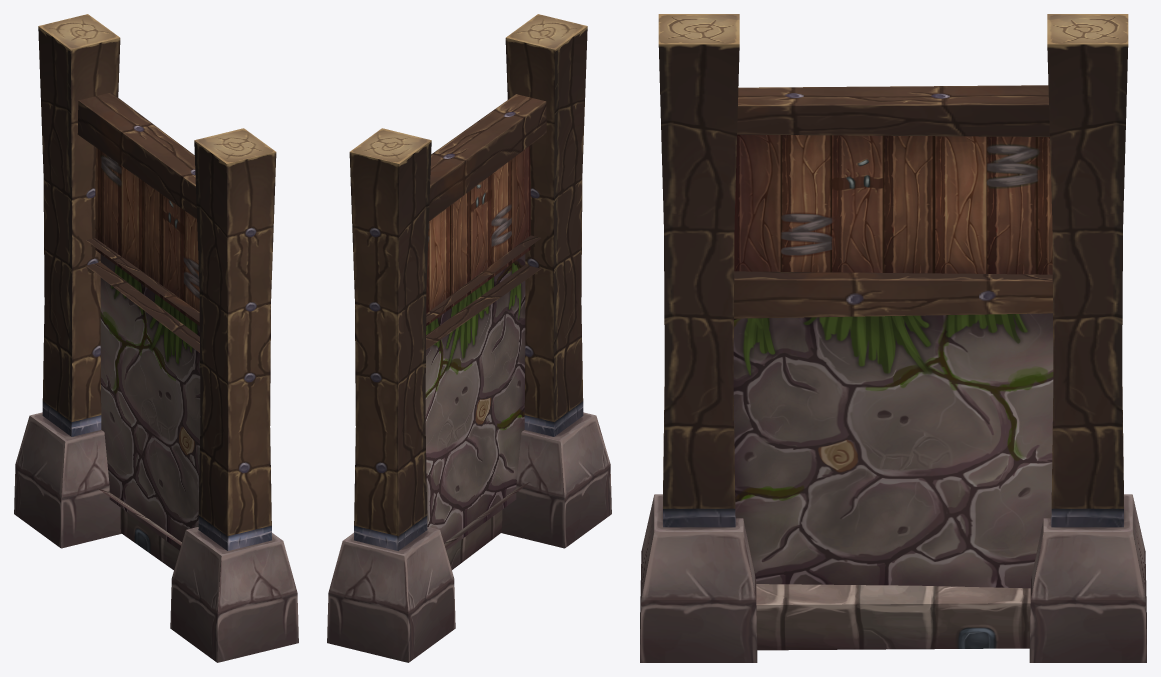
File: big_wall_side.fbx
3 views of the same model, side by side, from view 1: azimuth 30°, elevation 25°; view 2: azimuth 150°, elevation 25°; view 3: azimuth 270°, elevation 25° (orthographic). The views are drawn at different scales.
Parts seen in each view (by area): view 1: big_wall_side; view 2: big_wall_side; view 3: big_wall_side.
Part boxes in pixels (x1,y1,x2,y2): big_wall_side: [14, 14, 298, 662]; big_wall_side: [327, 14, 611, 662]; big_wall_side: [640, 14, 1146, 662].
Bounding box in the file's own units: 1.83 × 10.52 × 7.92.
